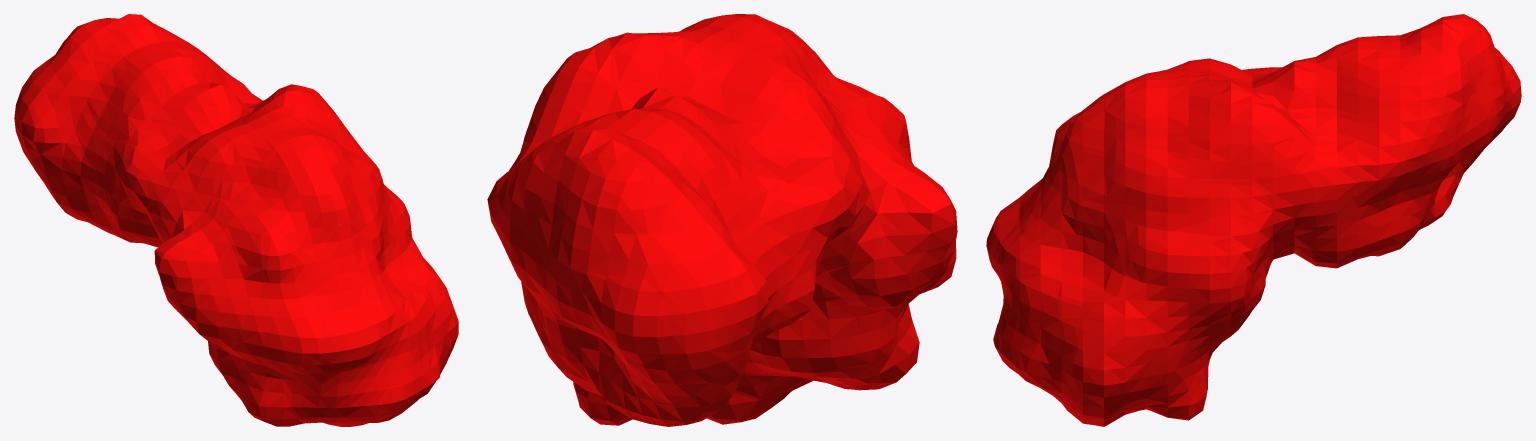
Rendered from alr_coarse.dae.
The picture shows the model from 3 angles, left to right: view 1: azimuth 30°, elevation 25°; view 2: azimuth 150°, elevation 25°; view 3: azimuth 270°, elevation 25°; orthographic projection. The views are drawn at different scales.
Parts seen in each view (by area): view 1: alr; view 2: alr; view 3: alr.
Part boxes in pixels (x1,y1,x2,y2): alr: (14,14,458,426); alr: (487,14,957,426); alr: (986,14,1521,426).
Bounding box in the file's own units: 52.33 × 56 × 77.79.
